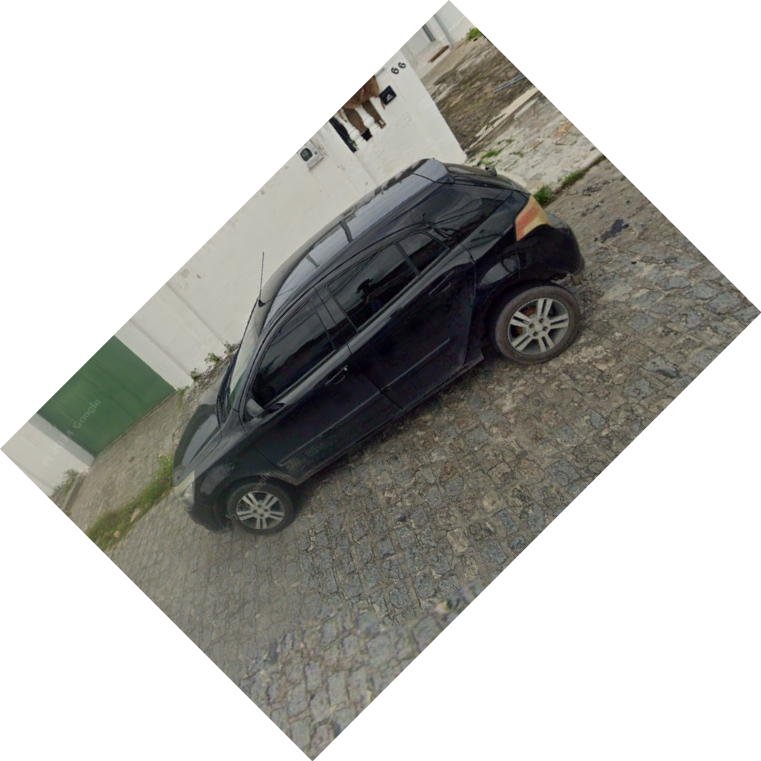car: (168, 152, 584, 538)
